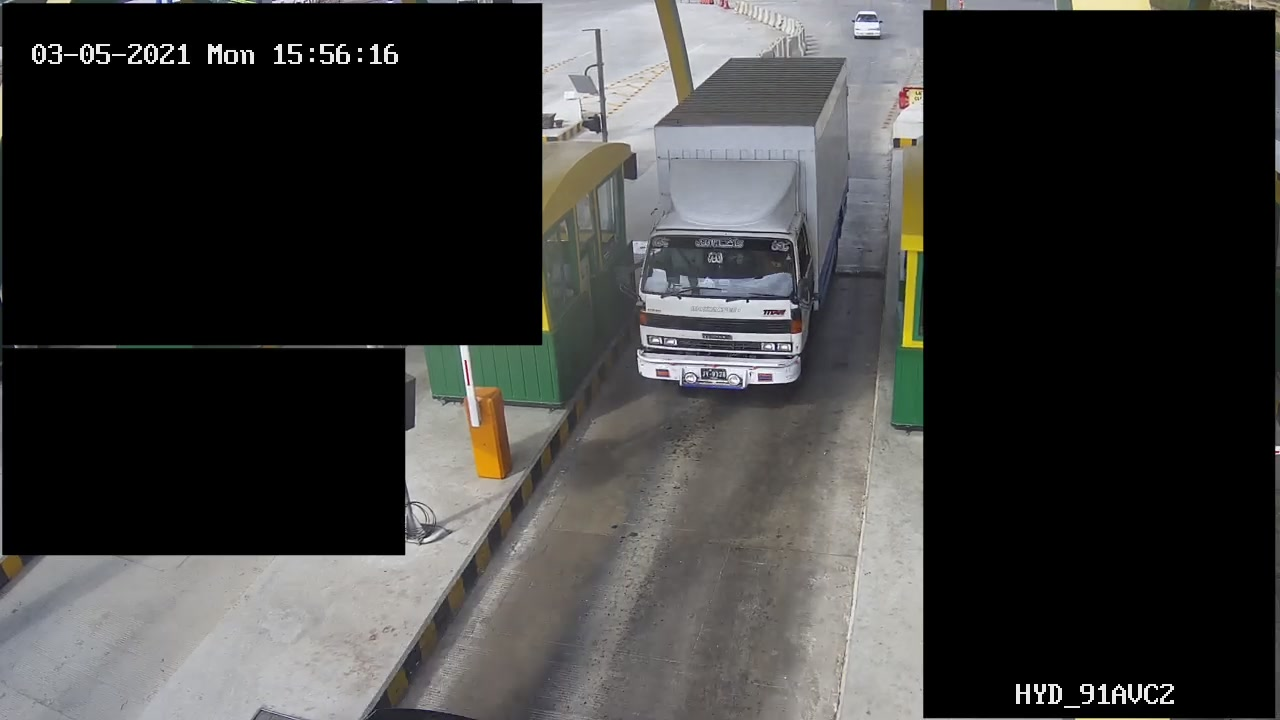F5: (620, 51, 857, 404)
